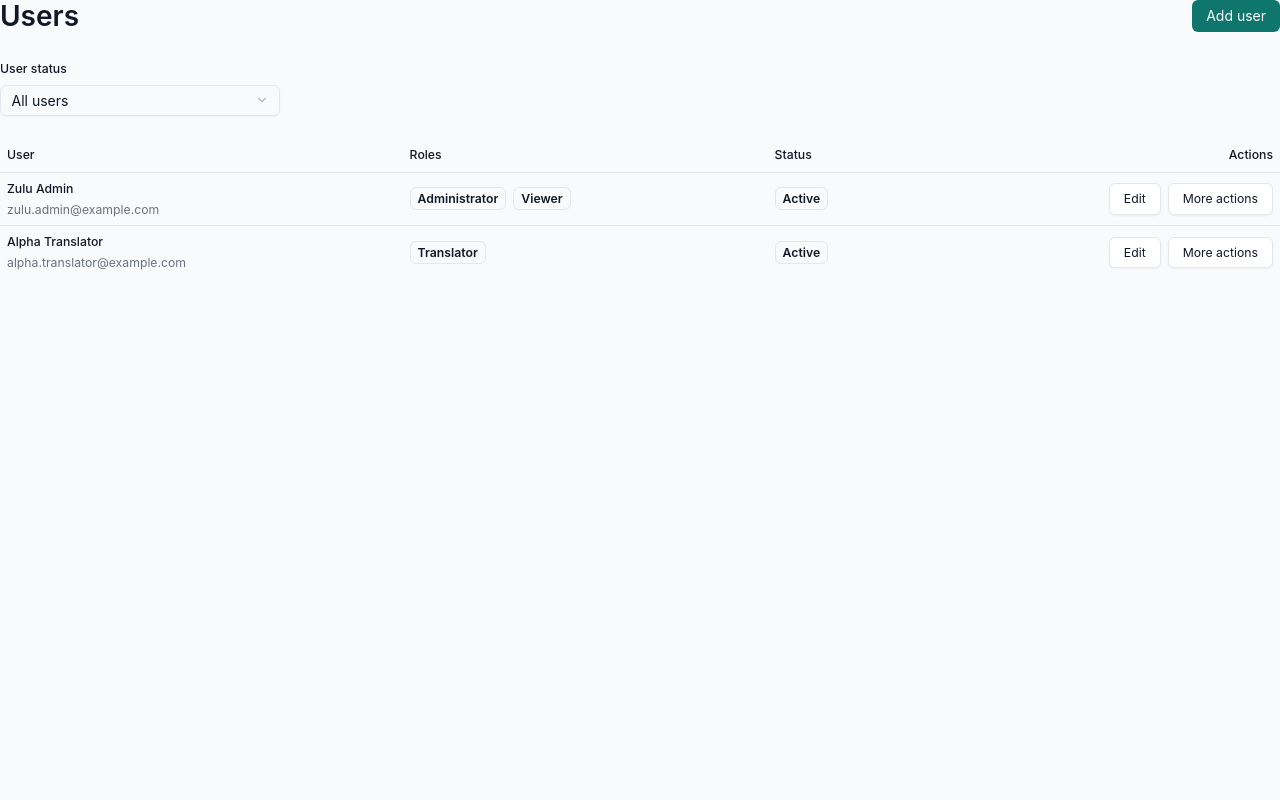
Test case: administrator users page tracer › creates an account with independent product roles and allows clearing an assignment
Click the button "Add user": (1236, 16) [1192,0,1279,32]
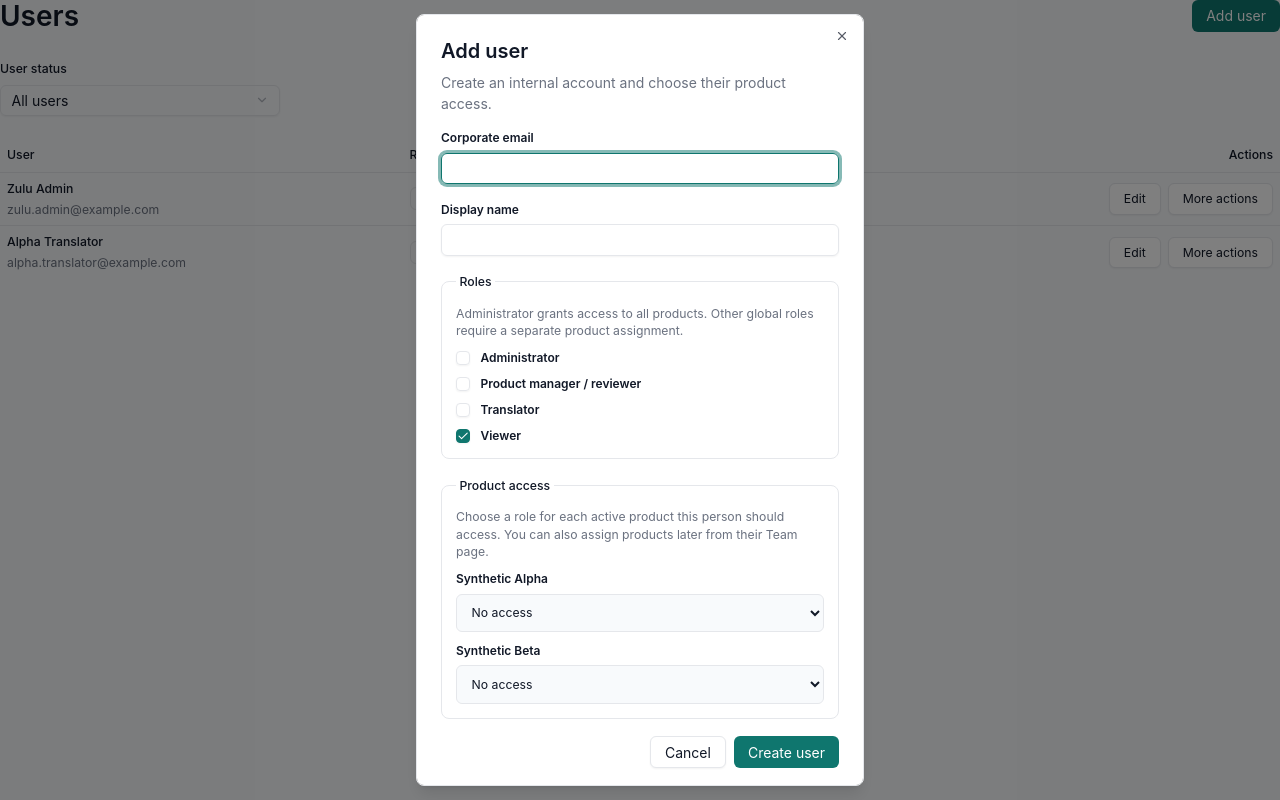
Result: the dropdown labelled "Synthetic Alpha" shows "No access"
Result: the dropdown labelled "Synthetic Beta" shows "No access" at [456,665,824,704]
Select "Translator" in the dropdown labelled "Synthetic Alpha": (640, 613) [456,594,824,632]
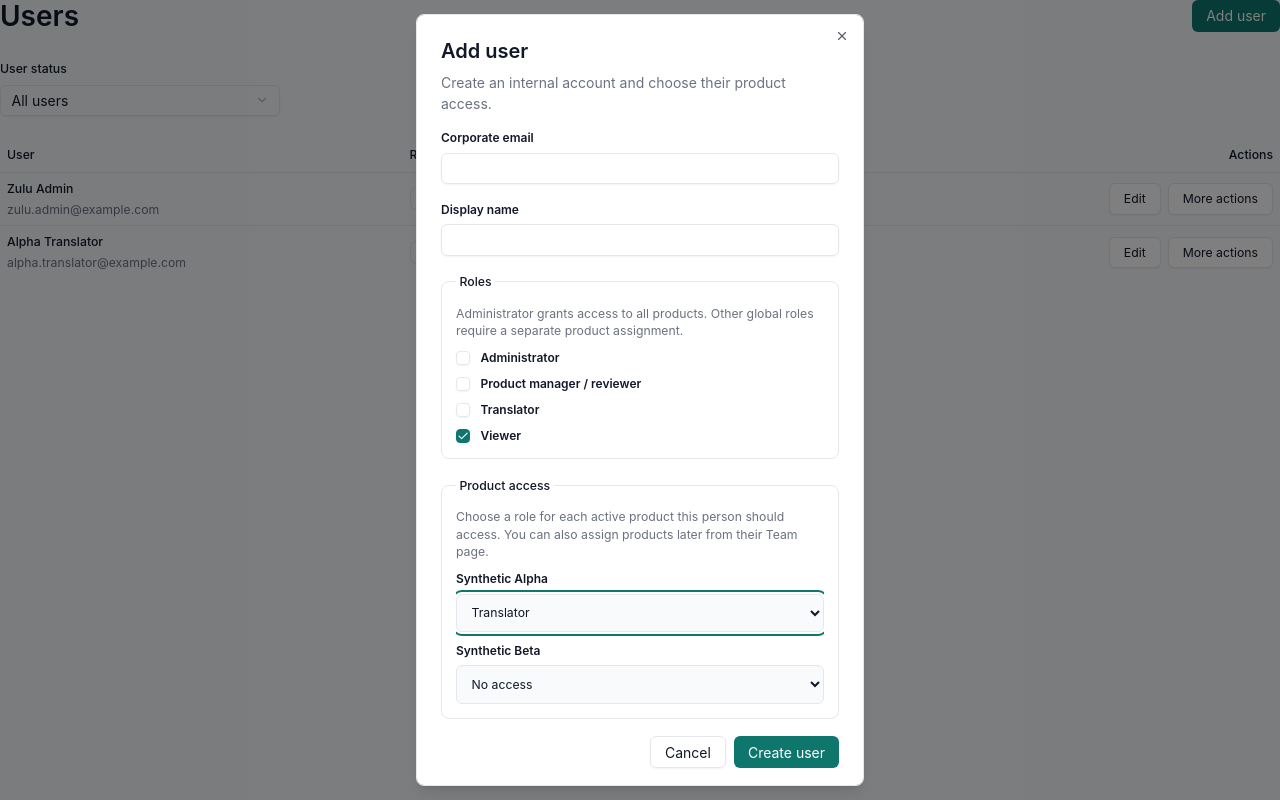
Select "Product manager / reviewer" in the dropdown labelled "Synthetic Beta": (640, 685) [456,665,824,704]
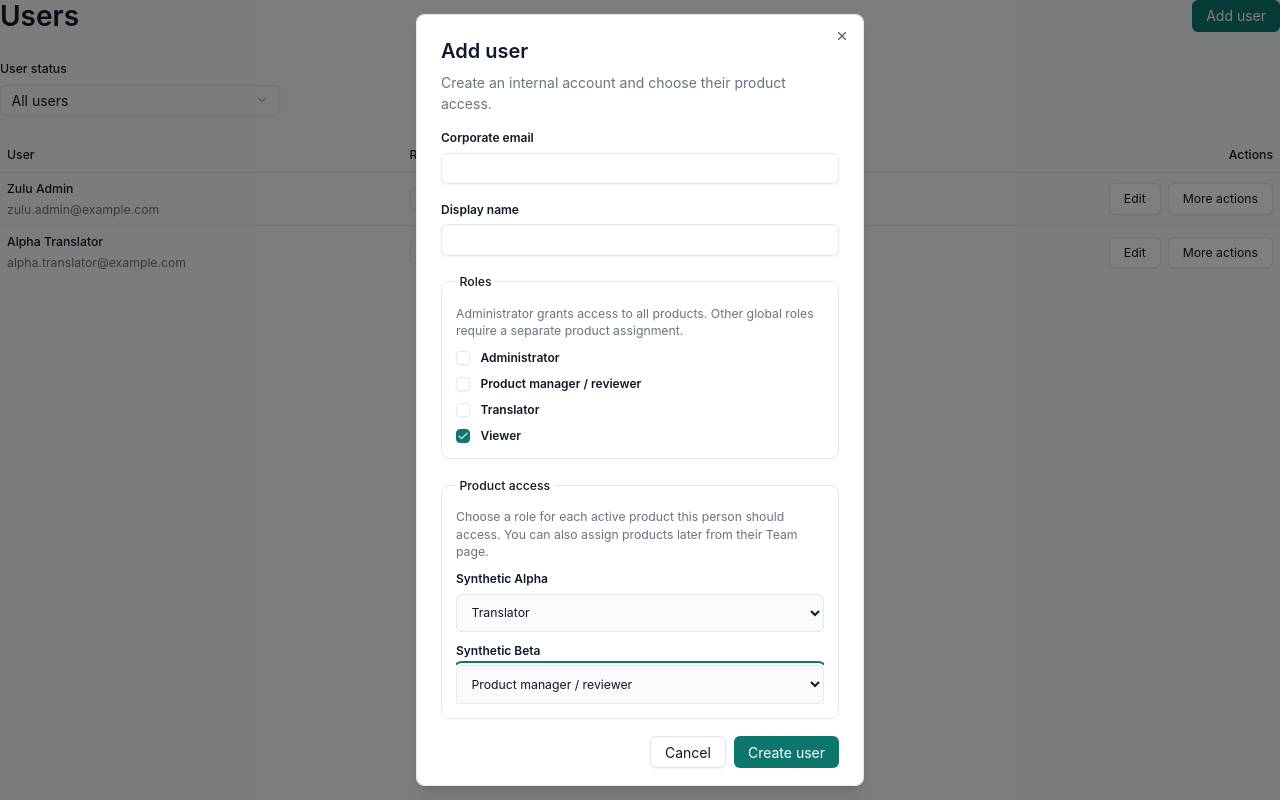
Select "No access" in the dropdown labelled "Synthetic Beta": (640, 685) [456,665,824,704]
Select "Product Owner" in the dropdown labelled "Synthetic Beta": (640, 685) [456,665,824,704]
In the field labelled "Corporate email": (640, 168) [441,153,839,184], type "created@example.com"
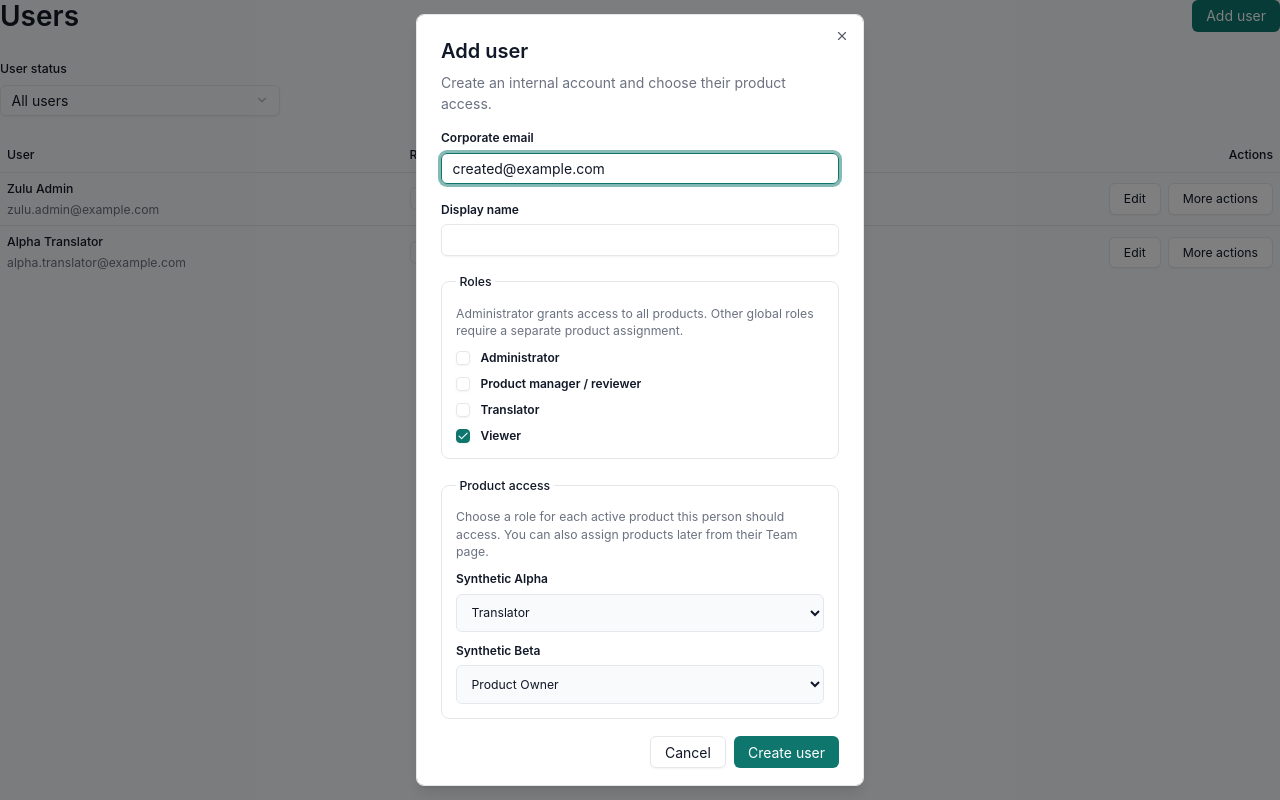
In the field labelled "Display name": (640, 240) [441,224,839,256], type "New Person"
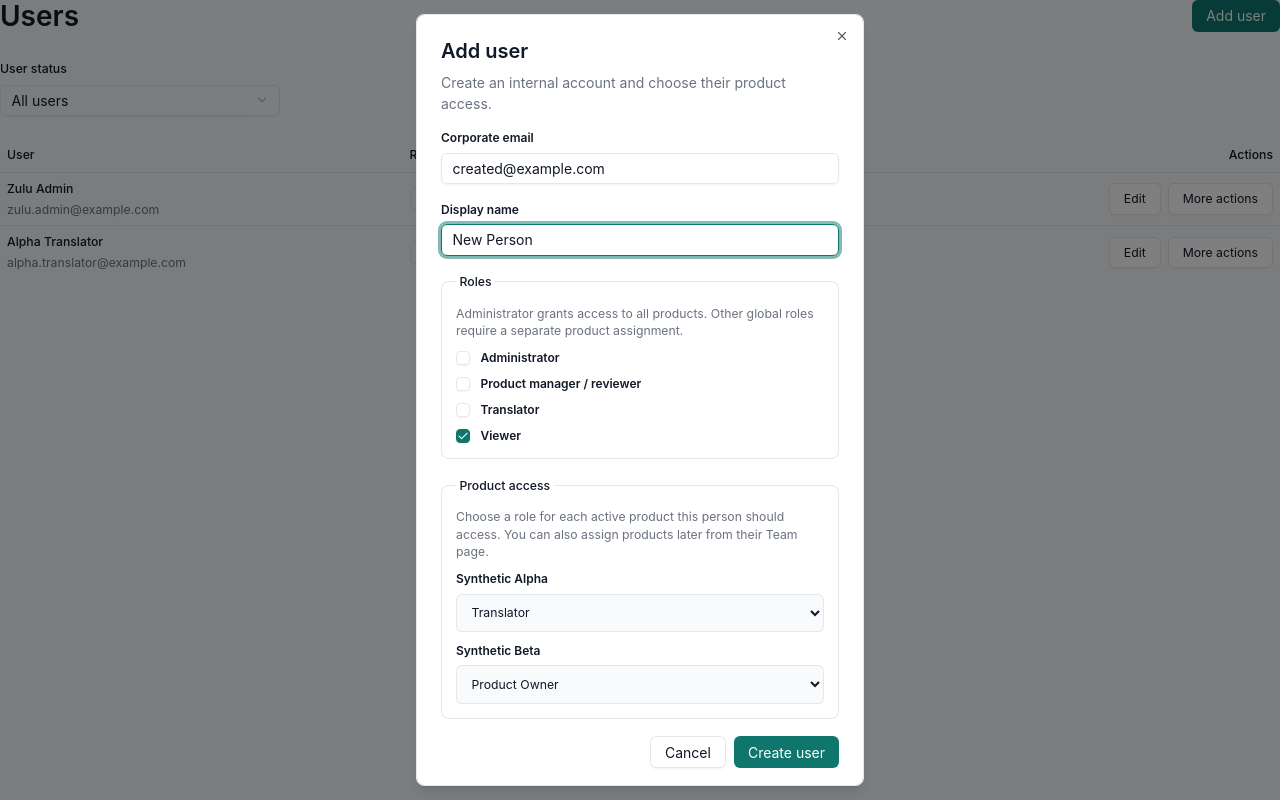
Click the button "Create user": (786, 752) [734,736,839,768]
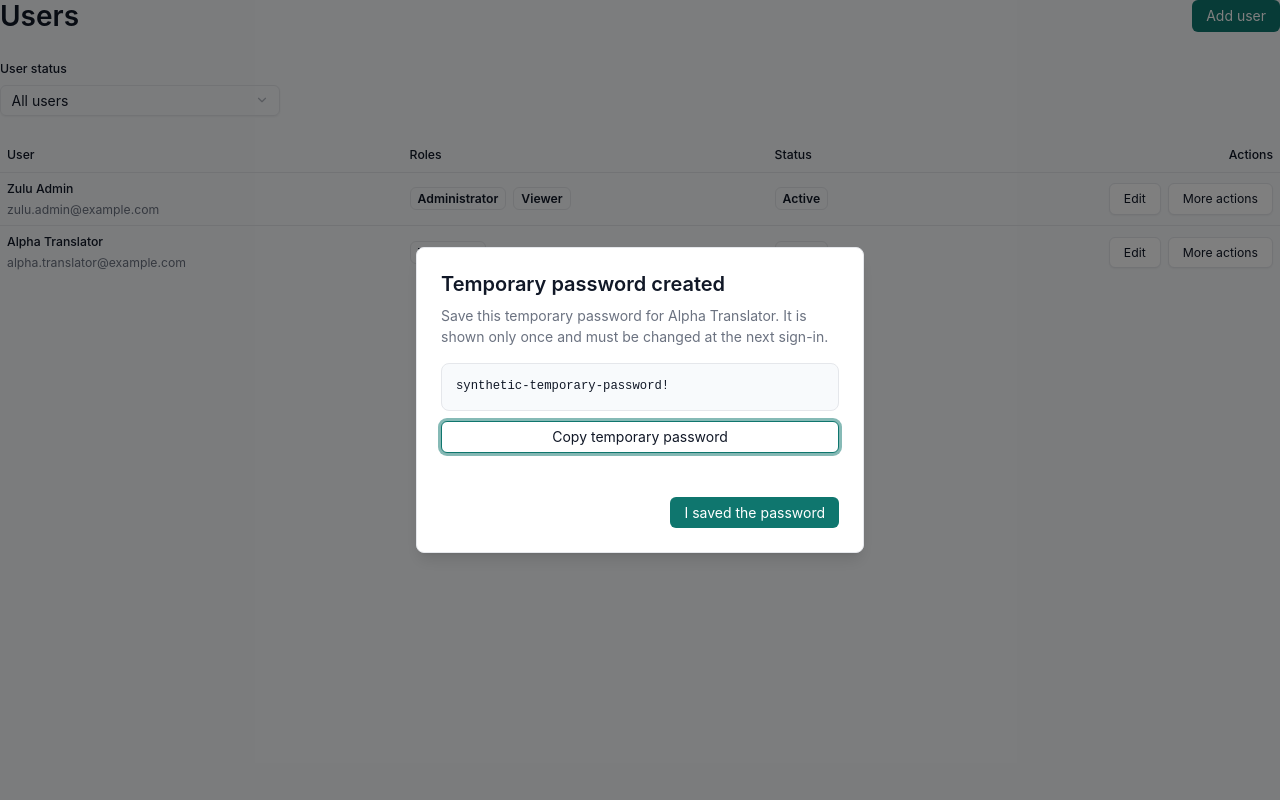
Result: the dialog "Temporary password created" shows "synthetic-temporary-password!" at [456,379,669,393]
